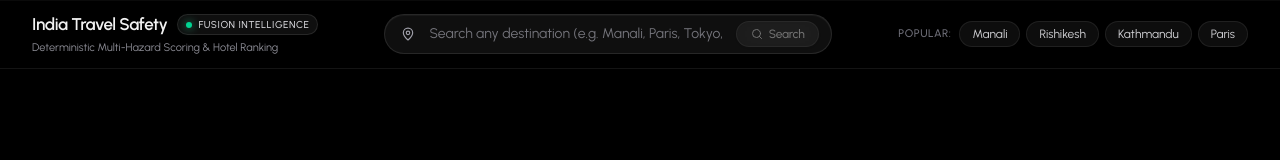
Navbar location autocomplete › fetches and displays suggestions when typing query
Step 1. Replace the text in the dropdown with "Pari" → (576, 34), box [423,22,728,46]
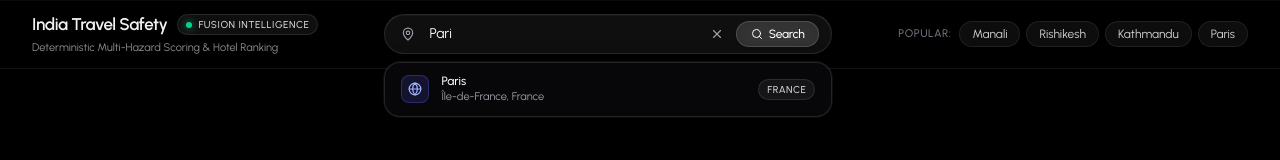
Expected: the list is shown, [384,62,832,116]
Expected: the option "Paris Île-de-France, France France" is shown, [401,74,815,103]
